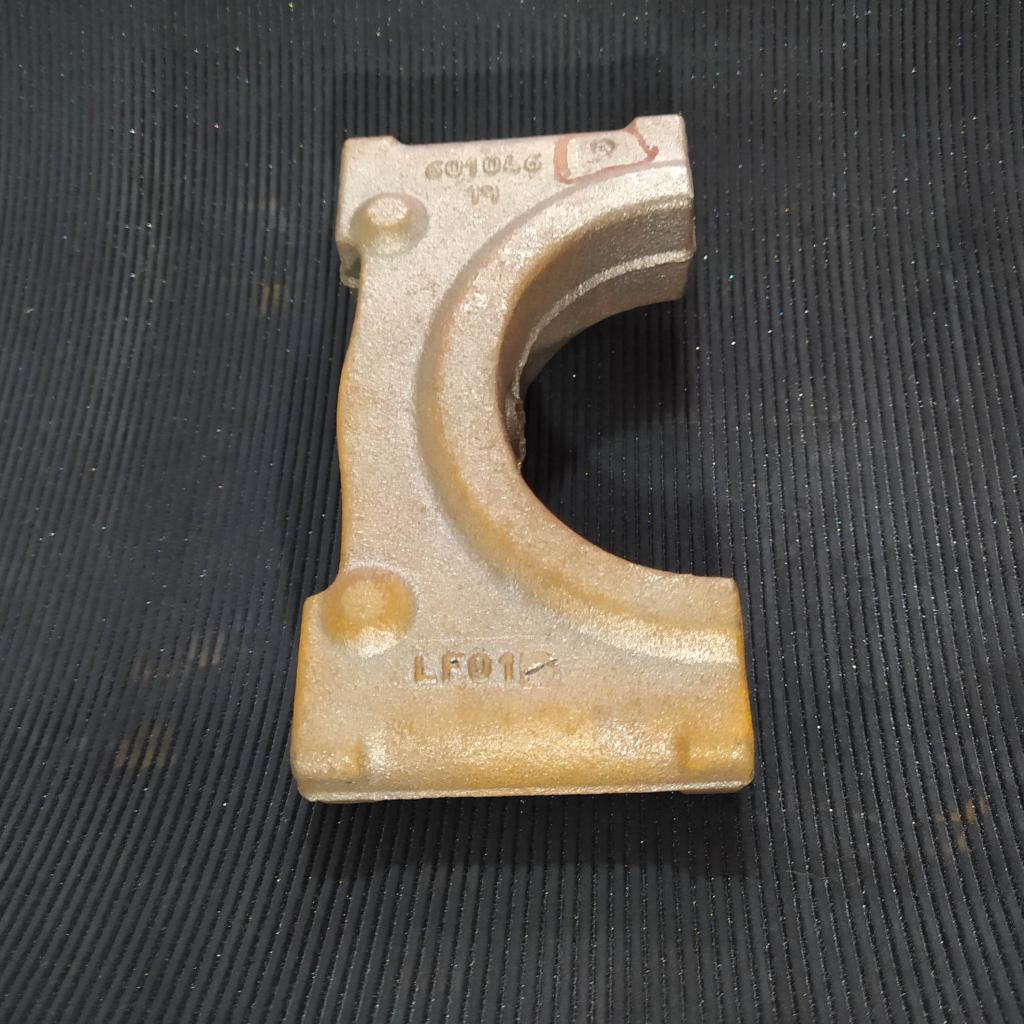buraco: (589, 135, 619, 161)
